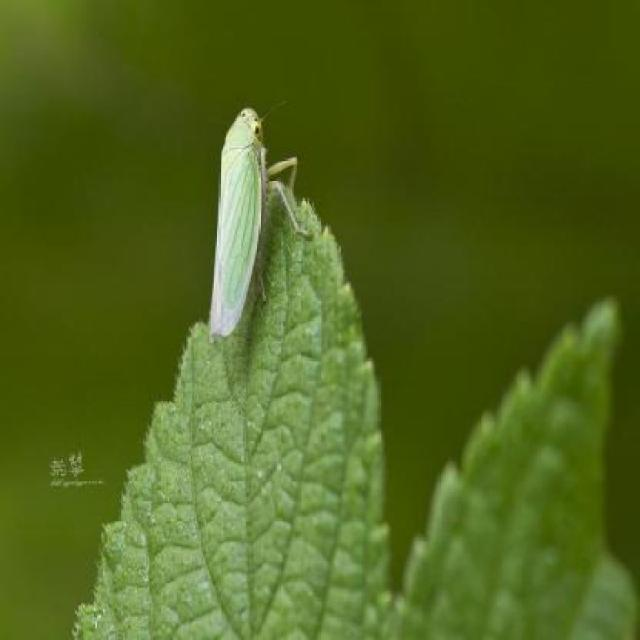green-leafhopper: (210, 104, 315, 341)
